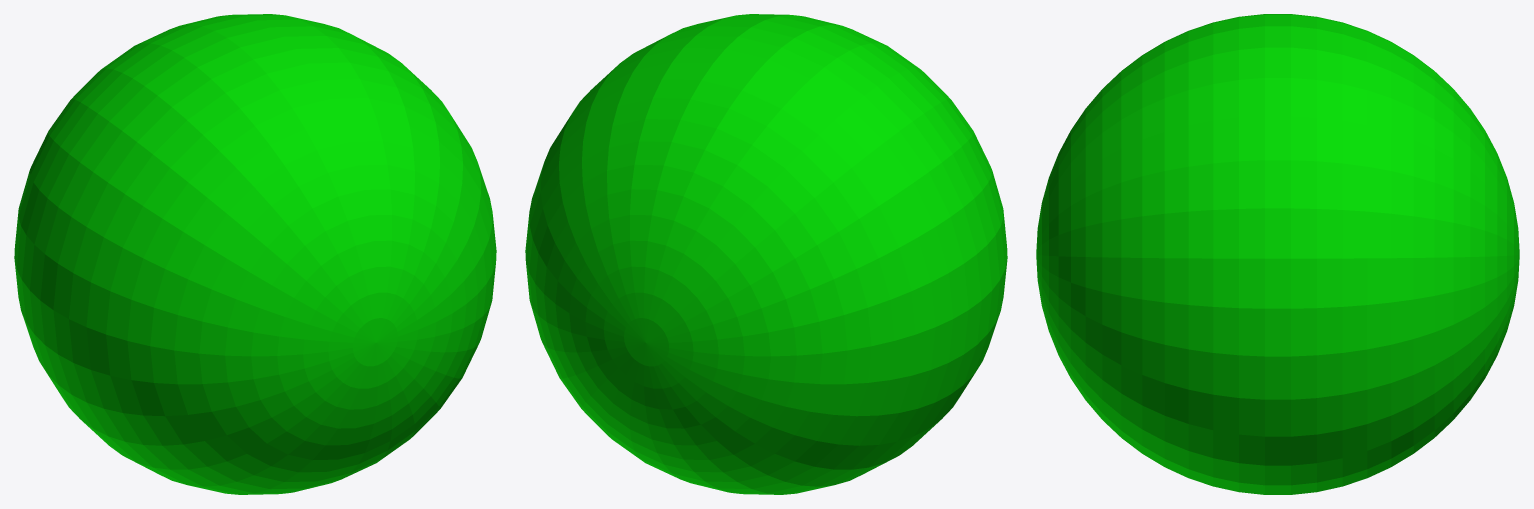
File: Calcium Chloride.glb
3 views of the same model, side by side, from view 1: azimuth 30°, elevation 25°; view 2: azimuth 150°, elevation 25°; view 3: azimuth 270°, elevation 25° (orthographic).
Visible parts, largest first — view 1: world; view 2: world; view 3: world.
Boxes of the visible parts, x1=… form: world: x1=14, y1=14, x2=496, y2=494; world: x1=525, y1=14, x2=1007, y2=494; world: x1=1036, y1=14, x2=1519, y2=494.
Bounding box in the file's own units: 2 × 1.99 × 2.
